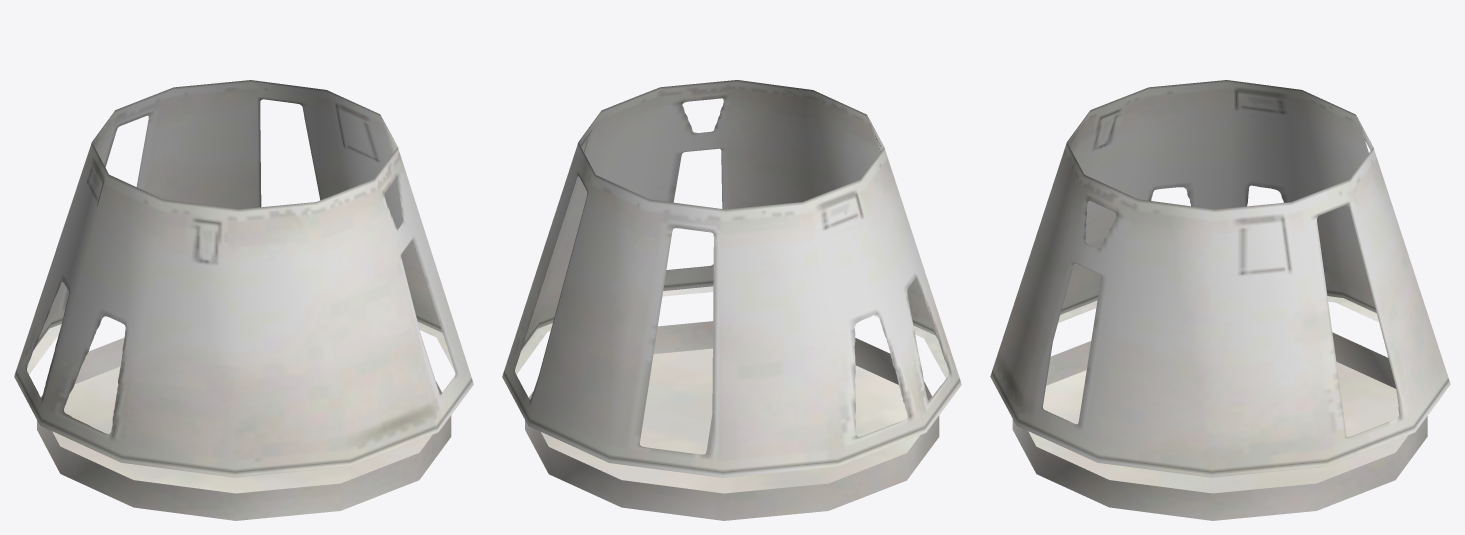
Rendered from poi_r4_head_l0.fbx.
3 views of the same model, side by side, from view 1: azimuth 30°, elevation 25°; view 2: azimuth 150°, elevation 25°; view 3: azimuth 270°, elevation 25° (orthographic).
Parts seen in each view (by area): view 1: mesh_node; view 2: mesh_node; view 3: mesh_node.
Part boxes in pixels (<box>): mesh_node: <box>14,80,473,520</box>; mesh_node: <box>502,80,961,520</box>; mesh_node: <box>990,80,1450,520</box>.
Bounding box in the file's own units: 0.4317 × 0.3782 × 0.4317.
Materials: 1 (1 with a texture image).
